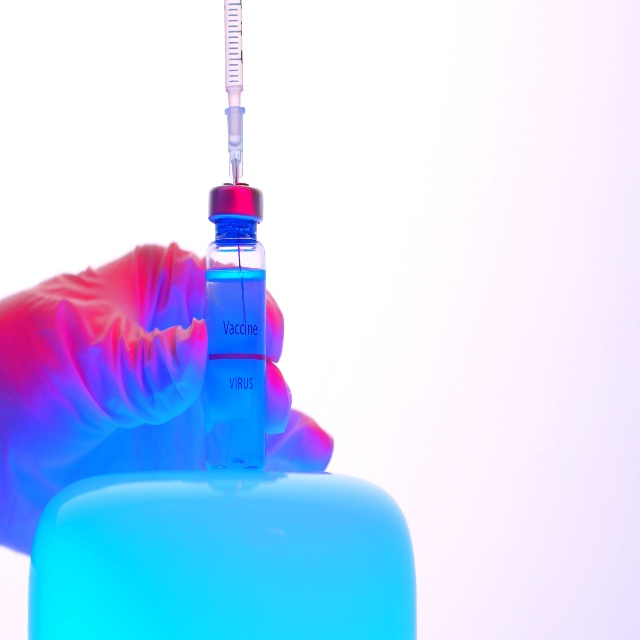Guantes: (0, 241, 334, 556)
